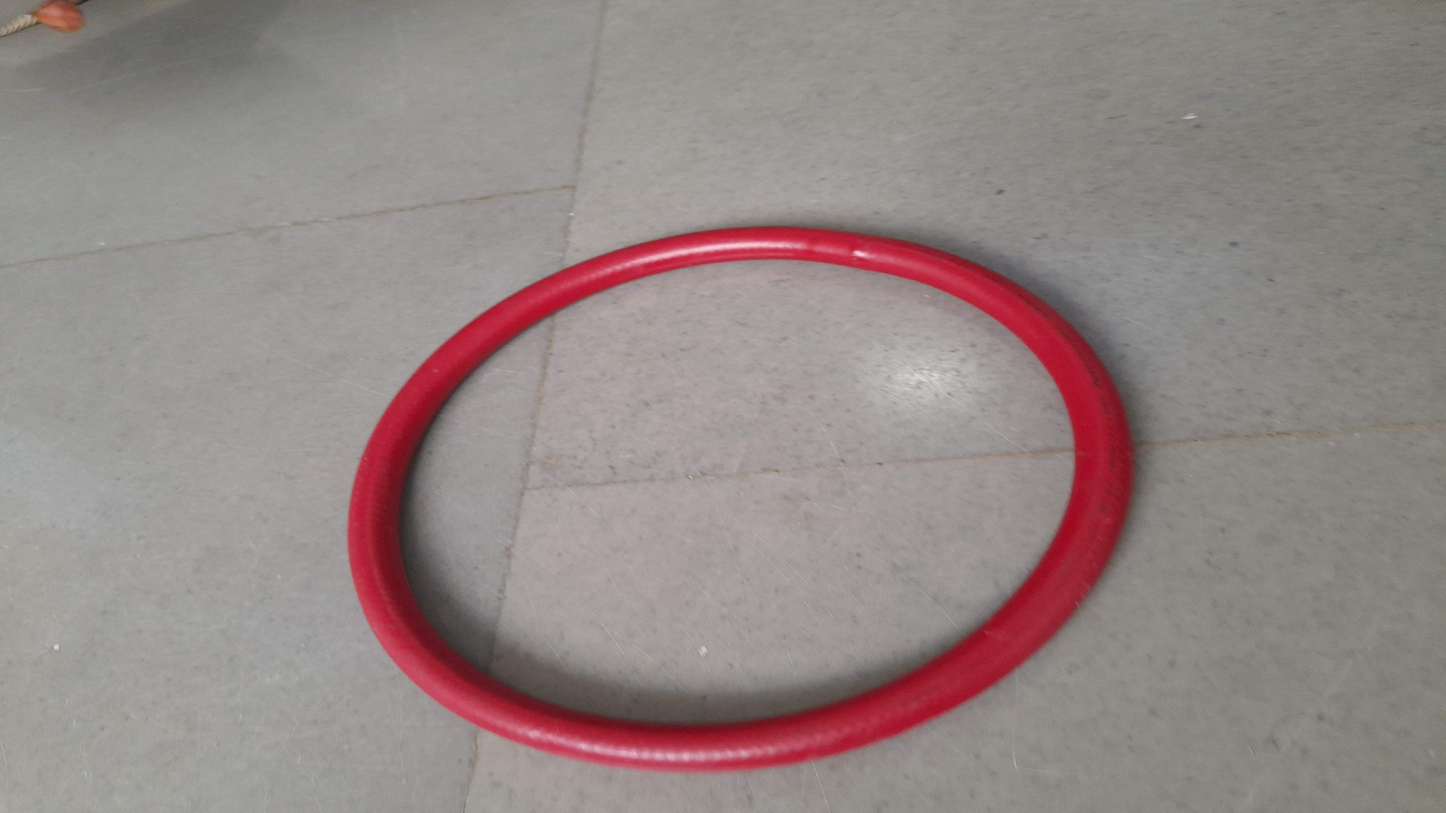Red ring: (345, 226, 1136, 772)
